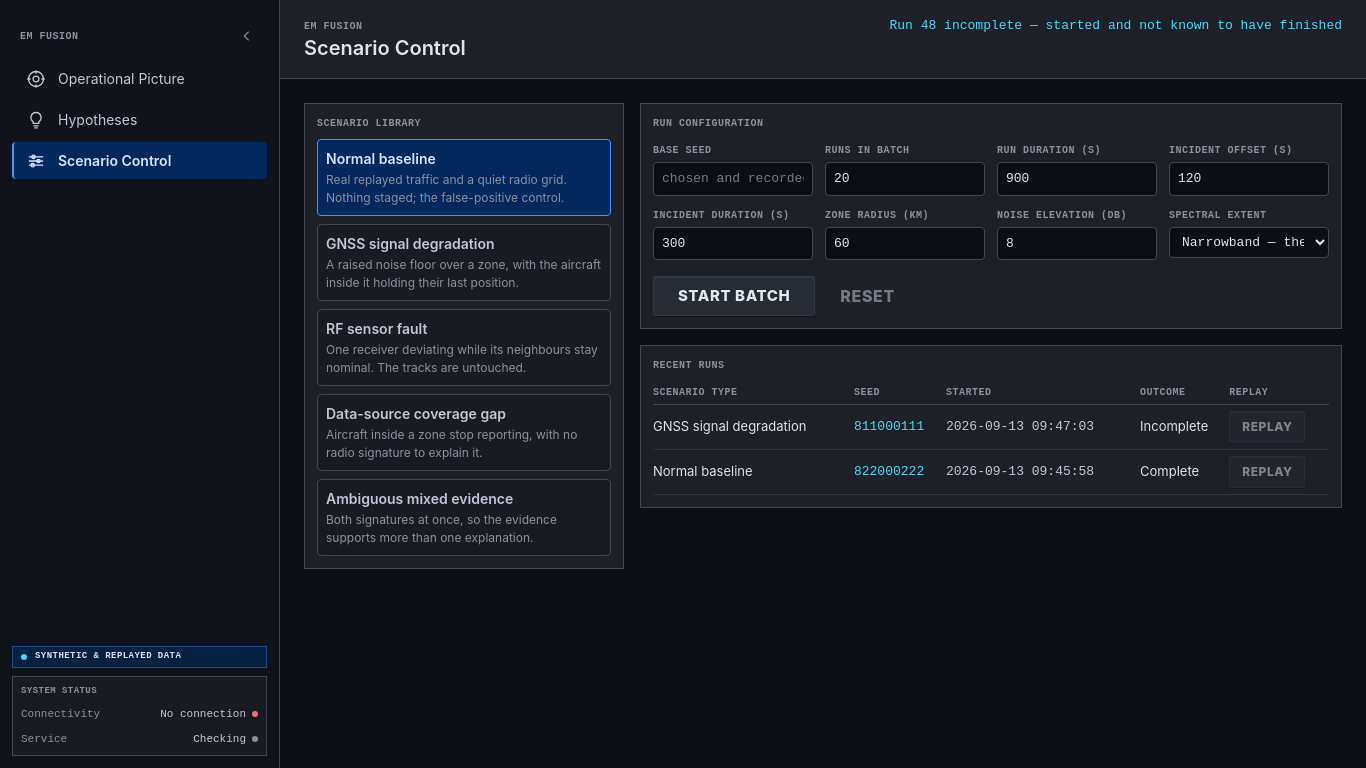
Scenario: a batch that is already running › surfaces a refusal at all, which the seam used to drop
Step 1. Click the button "Start batch" → (734,296), box [653,276,815,316]
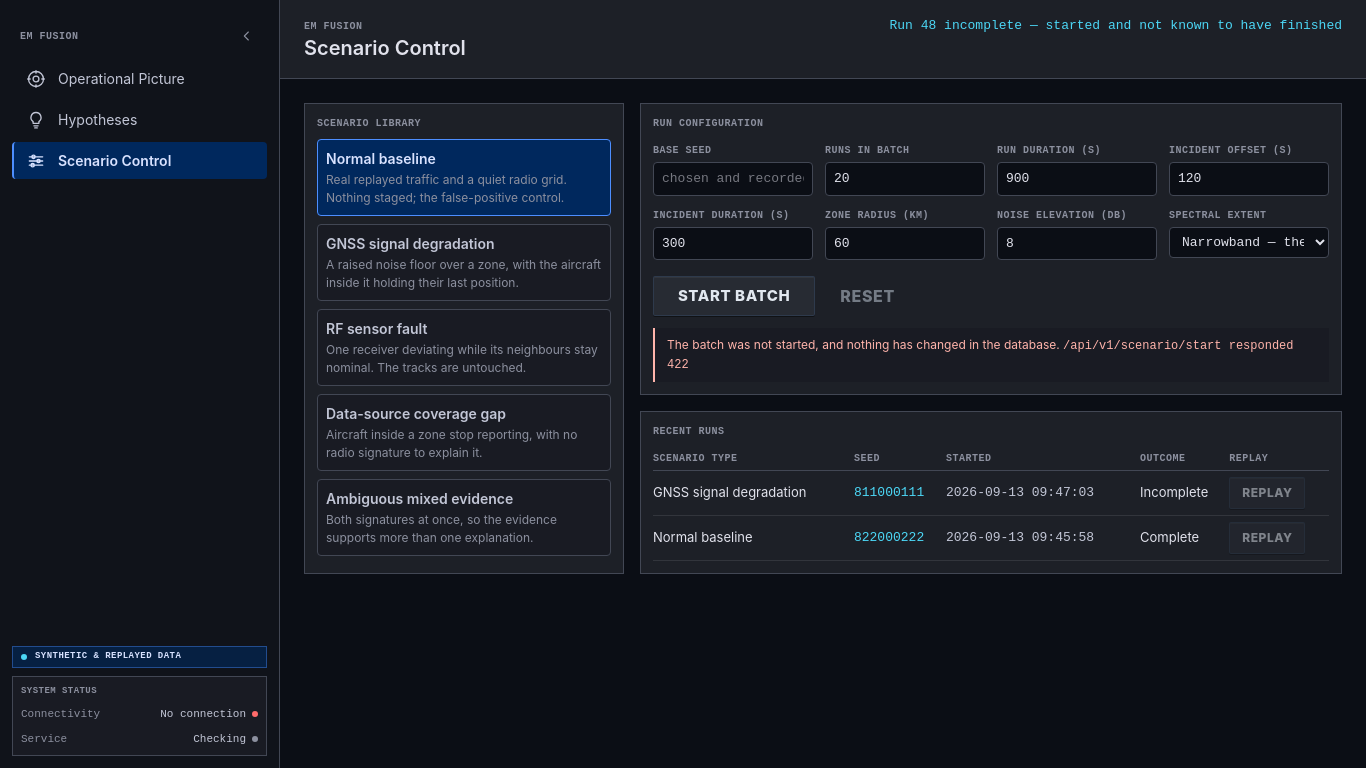
Expected: the 2nd message shows "not started", [667,337,1063,352]
